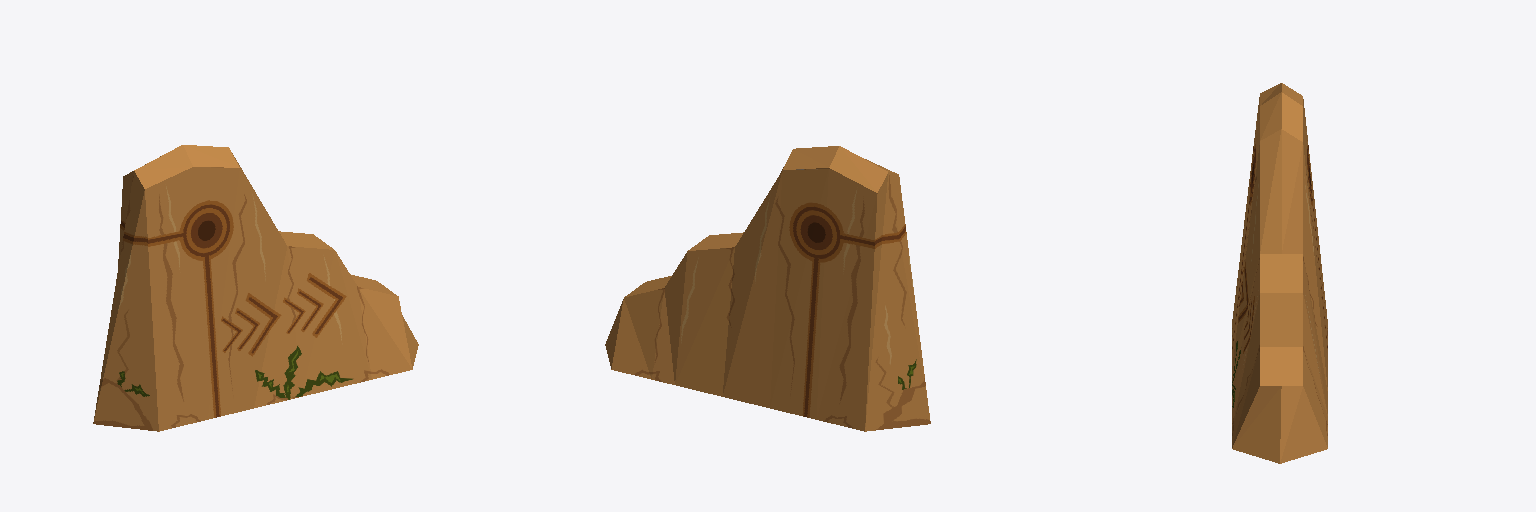
3 renders of one model, left to right at view 1: azimuth 30°, elevation 25°; view 2: azimuth 150°, elevation 25°; view 3: azimuth 270°, elevation 25°, orthographic.
Visible parts, largest first — view 1: Stone_Cube.001; view 2: Stone_Cube.001; view 3: Stone_Cube.001.
Part boxes in pixels (bbox=[...]): Stone_Cube.001: bbox=[93, 145, 418, 431]; Stone_Cube.001: bbox=[605, 146, 930, 431]; Stone_Cube.001: bbox=[1232, 83, 1327, 463].
Bounding box in the file's own units: 0.8038 × 0.6059 × 0.2062.
Materials: 1 (1 with a texture image).